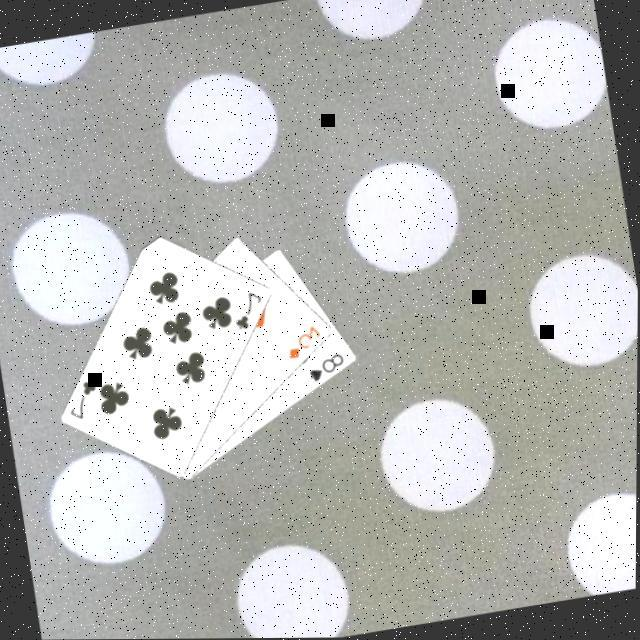3D: (283, 322, 330, 364)
7C: (65, 376, 106, 426), (230, 288, 272, 335)
8S: (306, 350, 352, 388)
